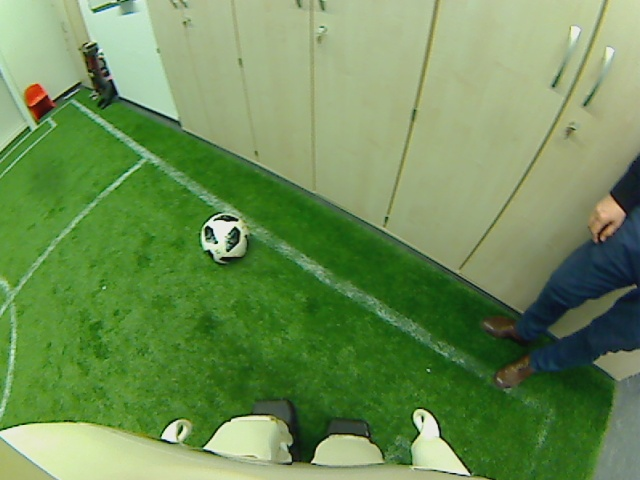ball: (199, 210, 250, 263)
